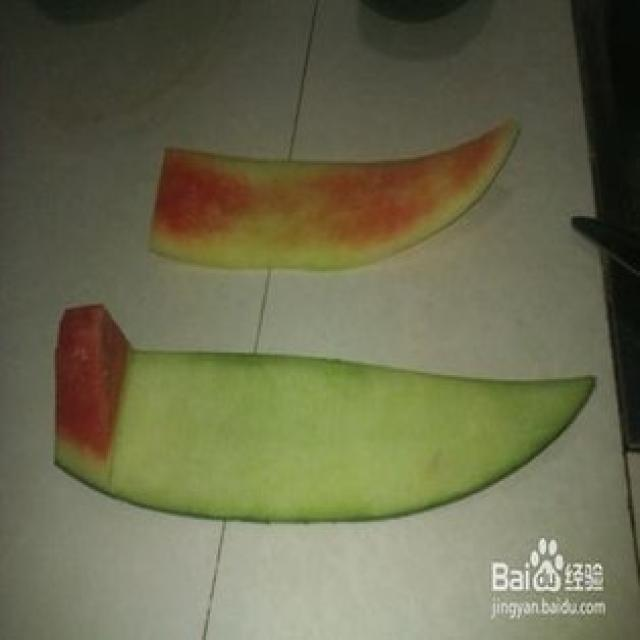-Kitchen waste - fruit-: (58, 298, 594, 520), (147, 118, 522, 272)
